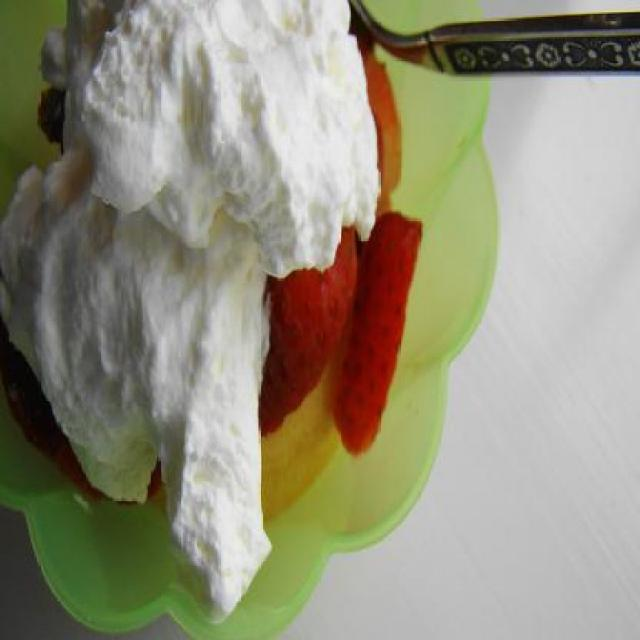Strawberry: (258, 210, 362, 452), (326, 207, 412, 447)
